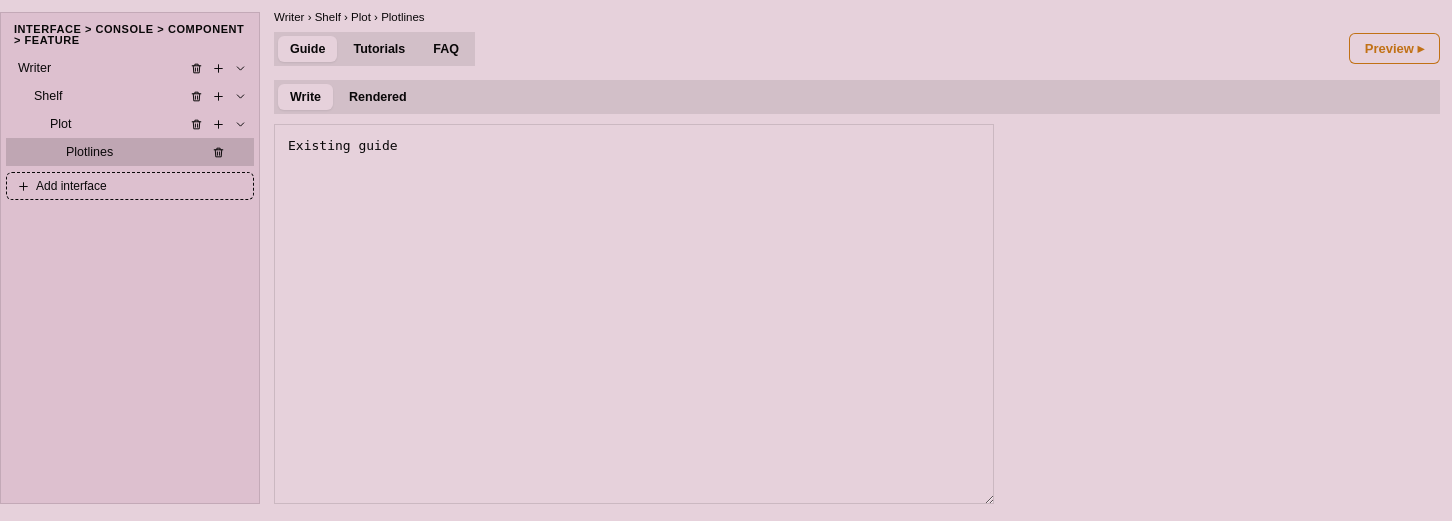
Scenario: ArticleBuilder › preview as Training has no feedback section
Check: the text box showing "Existing guide" is shown, box 274,124 -> 994,504
Click the button "Preview ▸" at [1394, 48], box 1349,33 -> 1440,64
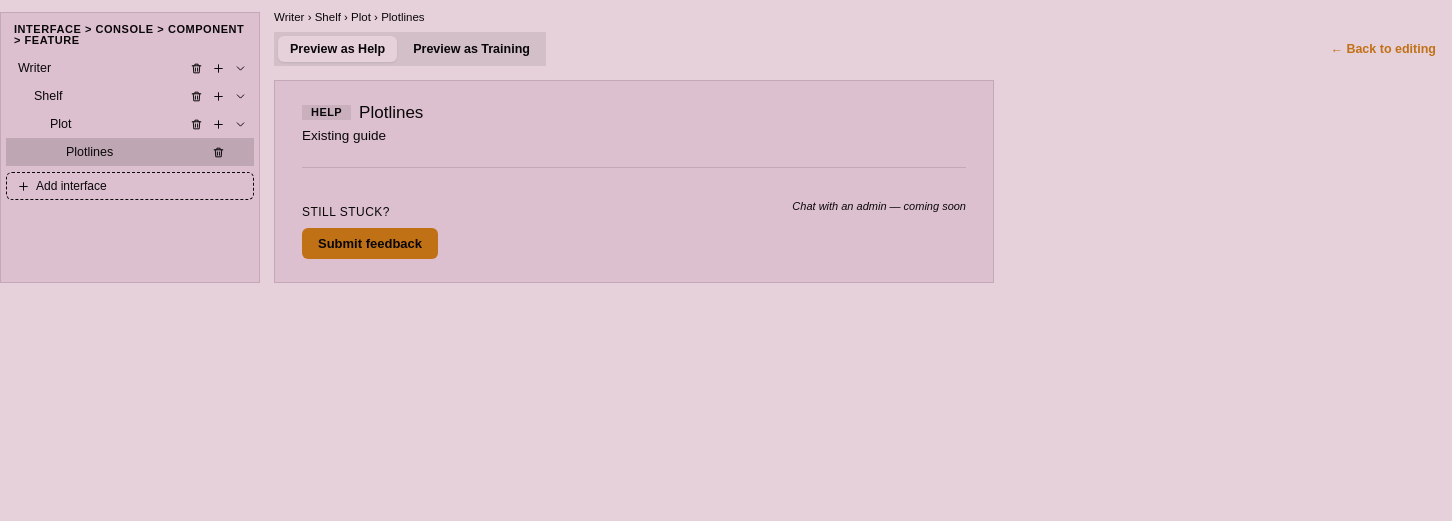
Click the button "Preview as Training" at [472, 48], box 401,36 -> 542,62
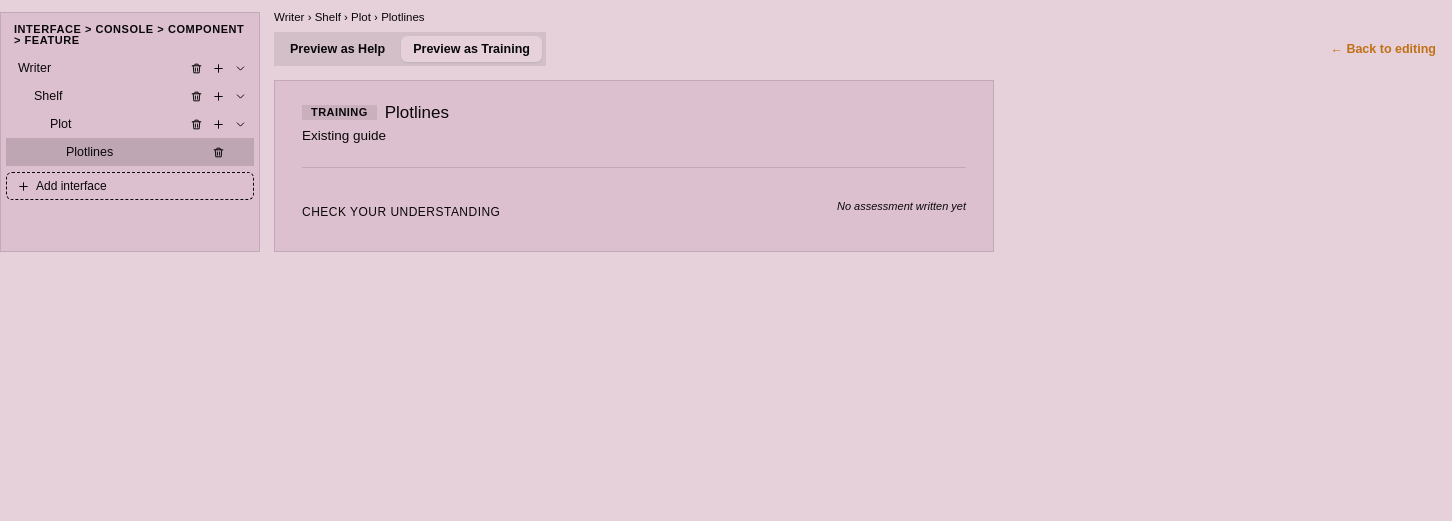
Check: the text "Chat with an admin — coming soon" is gone
Check: the heading "Check your understanding" is shown, box 302,206 -> 500,218
